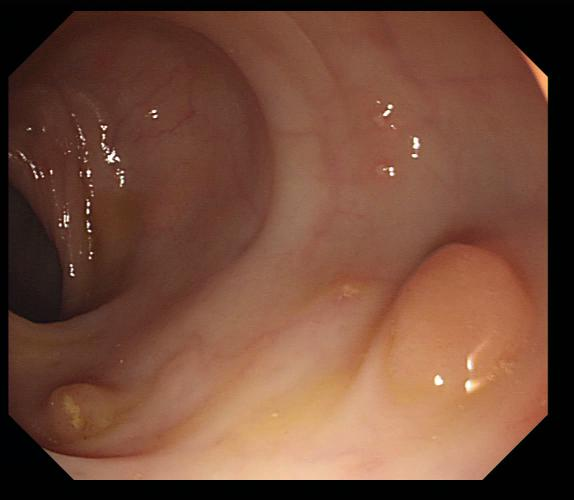polyp: (360, 241, 529, 421), (33, 382, 139, 445), (328, 270, 369, 315), (368, 101, 401, 136), (367, 152, 399, 185)
